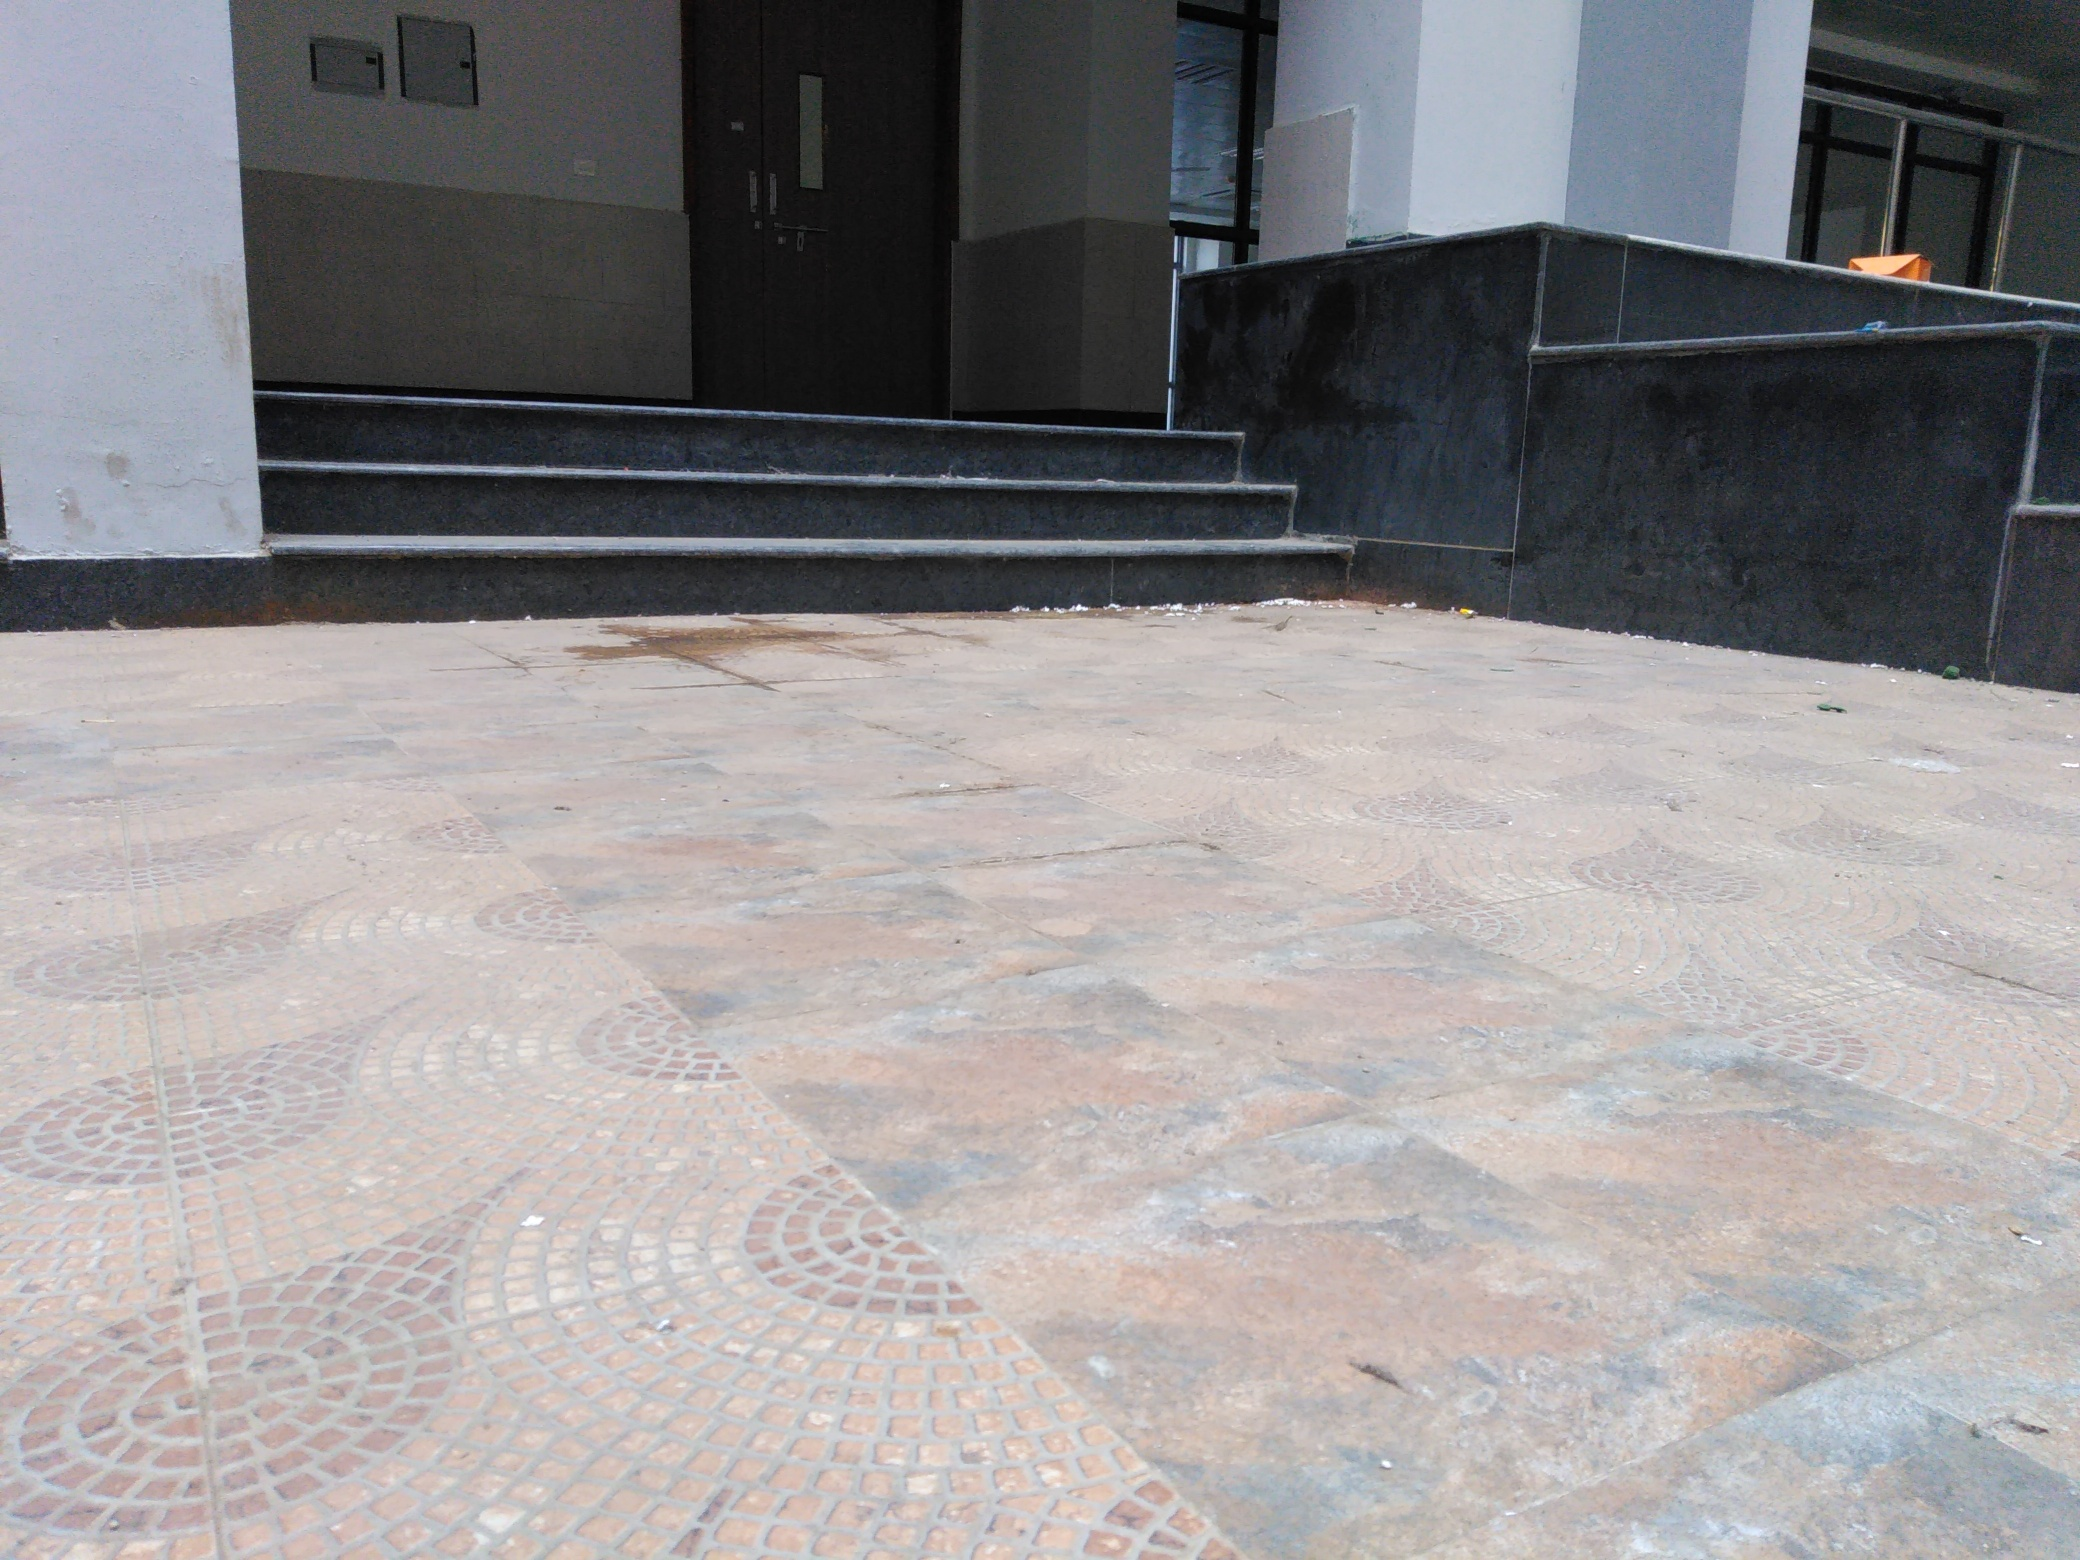stairs_up: (251, 387, 1336, 618)
